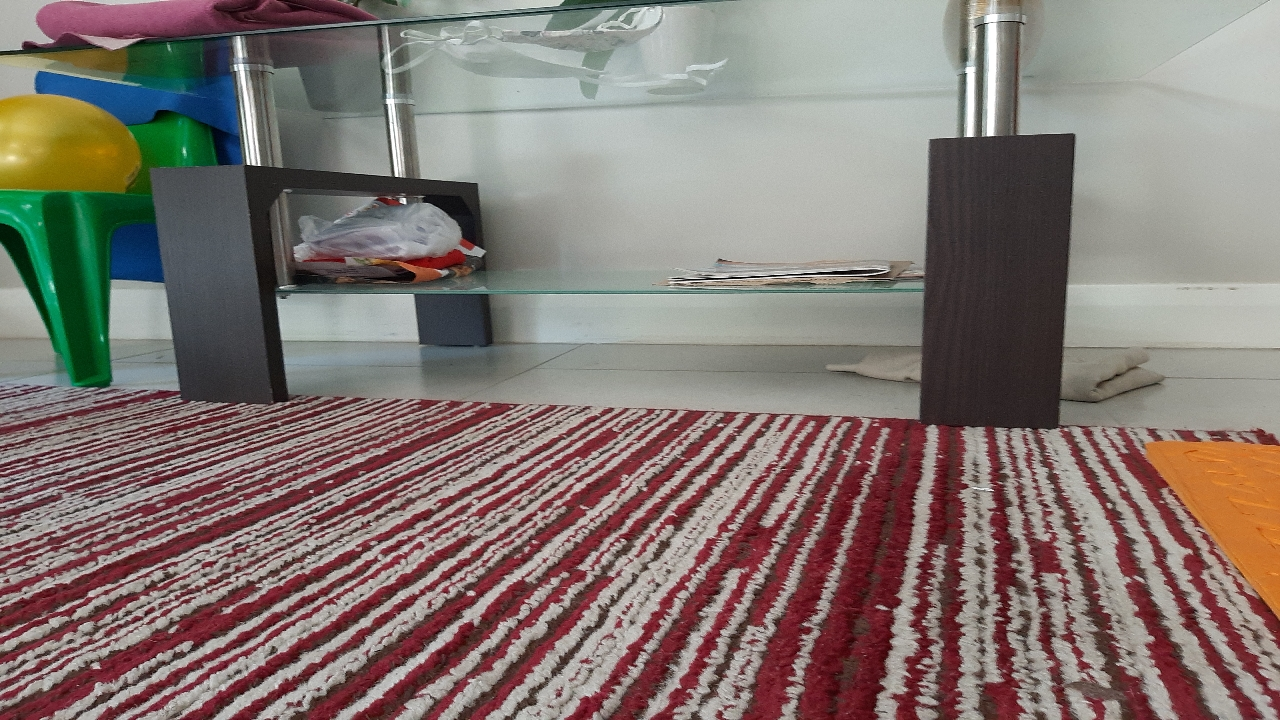teatable: (878, 318, 1140, 462), (156, 310, 313, 444)
